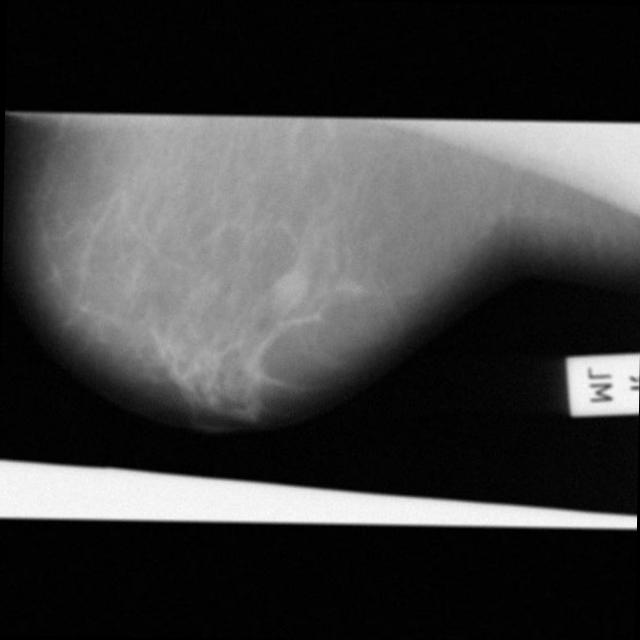CIRC: (261, 268, 312, 319)
